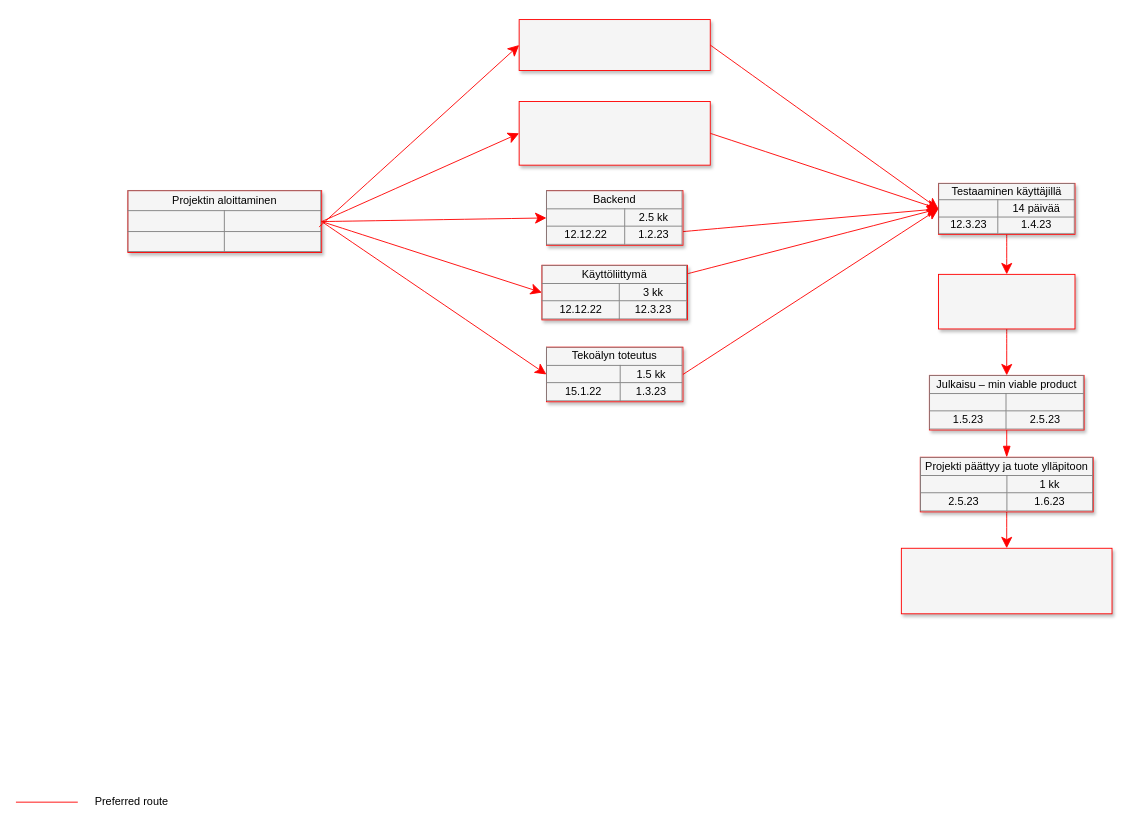
The diagram is 1134 pixels wide and 834 high, and some of its shapes have lost their labels. Each missing label, with the centre of its shape:
"Korjaukset 1 kk 1.4.23 1.5.23" belongs at point 1007,302.
"Prioriteetit 1 ja 2 vaatimukset toteutus 2.5 kk 12.12.22 21.2.23" belongs at point 615,134.
"Prioriteetit 3, 4 ja 5 vaatimukset toteutus 4 kk 1.6.23 1.10.23" belongs at point 1007,582.
"Testausautomaation kehitys 1.5 kk 12.12.22 1.2.23" belongs at point 615,46.
